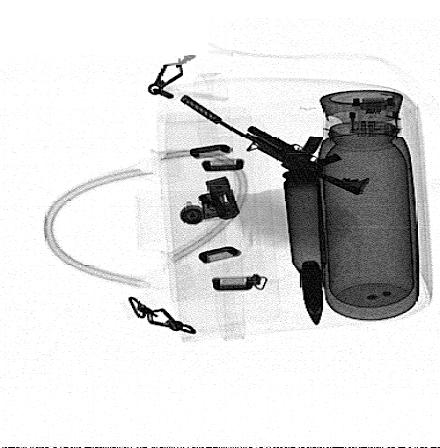Bullet: (282, 168, 329, 326)
Gun: (179, 94, 372, 197)
